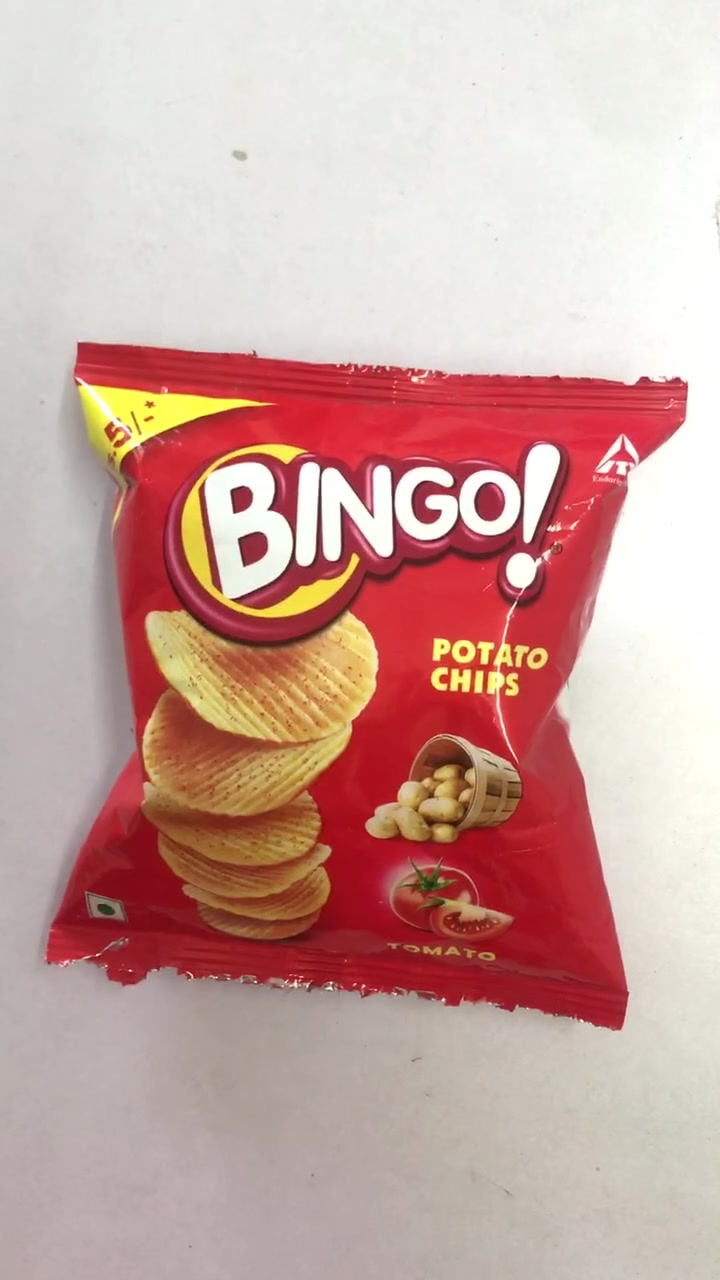Bingo: (67, 342, 676, 1028)
